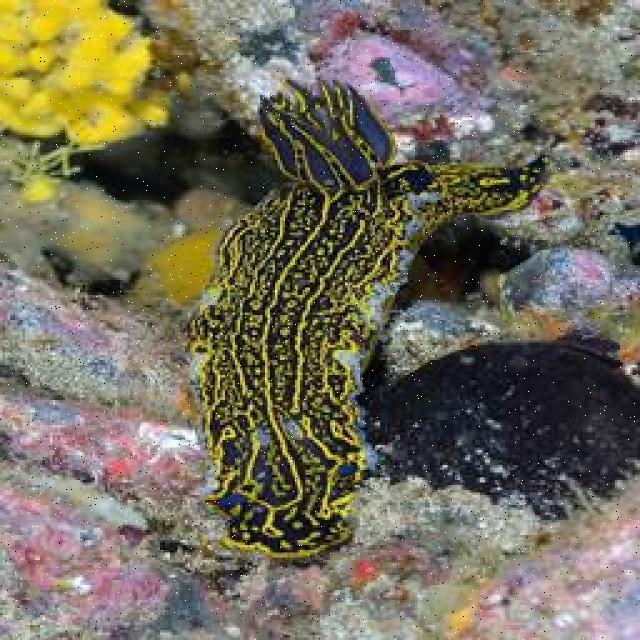fish: (185, 77, 550, 558)
